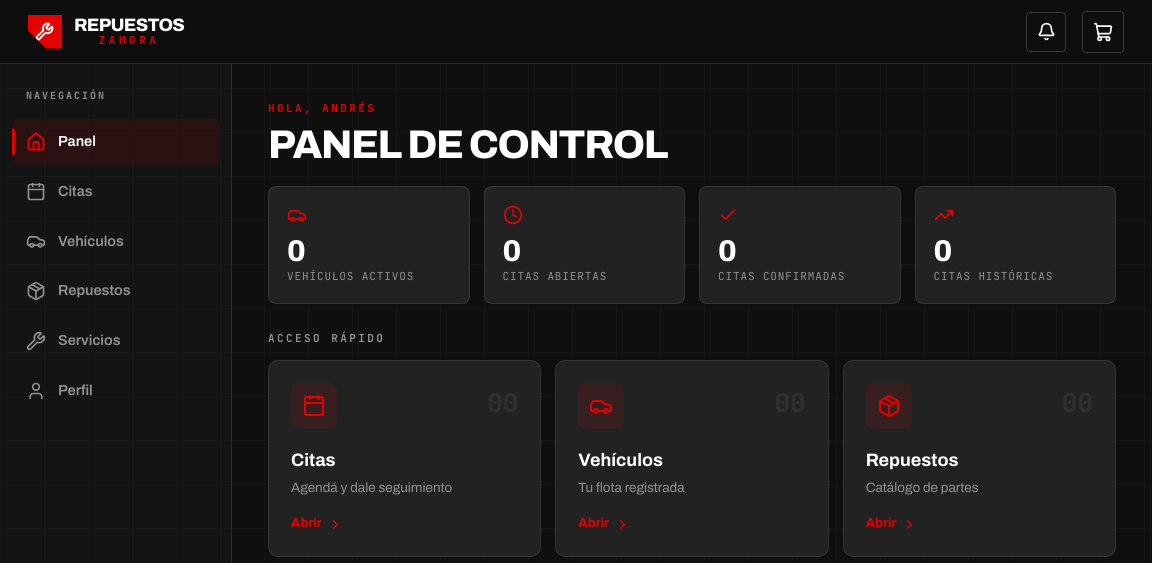
Navegación del panel › muestra el catálogo de servicios en su sección
This screenshot has width=1152, height=563.
Click the link with test id "nav-servicios".
click(74, 341)  # box [26,331,121,351]
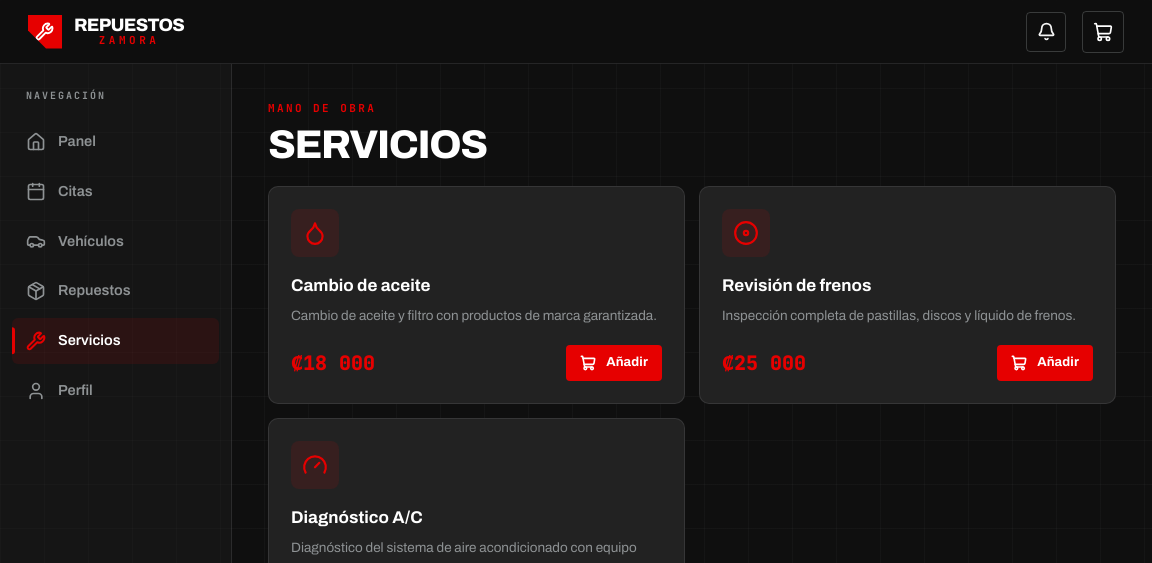
expect the text "Cambio de aceite" is shown: met, box [291,276,430,295]
